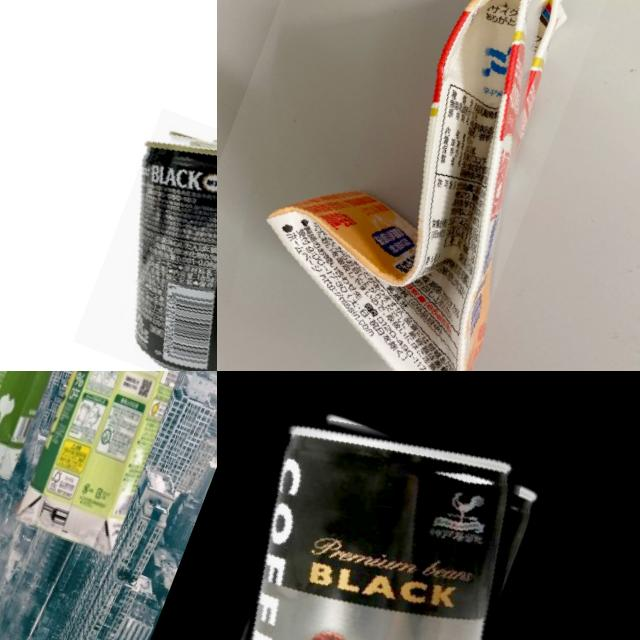Aluminium Foil: (217, 0, 628, 371), (9, 371, 217, 563), (0, 371, 120, 488)
Can: (217, 383, 572, 640), (73, 108, 217, 371)
